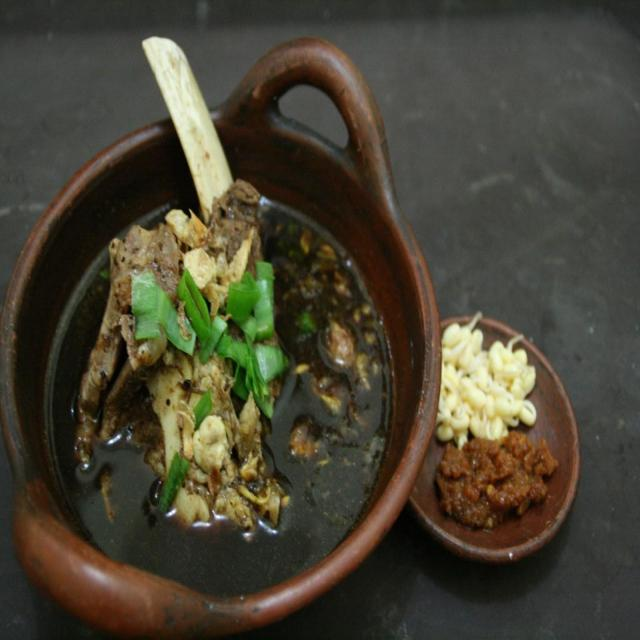Rawon: (41, 190, 370, 560)
